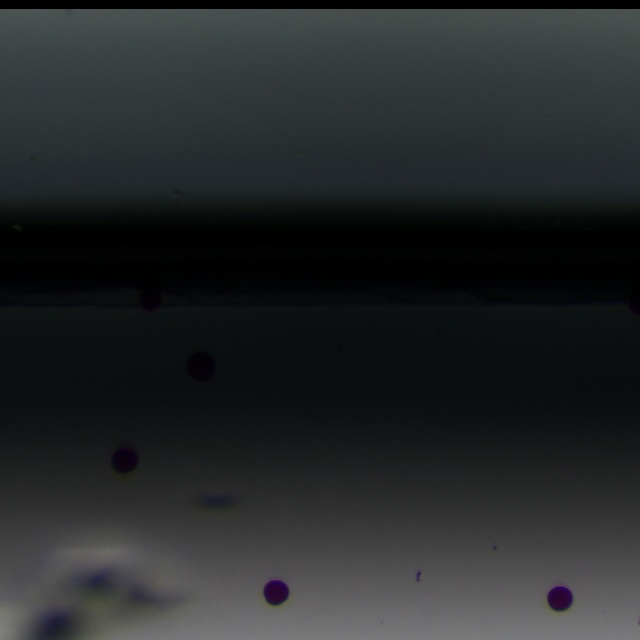viable: (187, 352, 214, 381), (112, 448, 138, 472), (264, 580, 289, 604), (548, 586, 572, 610), (140, 287, 160, 312)
